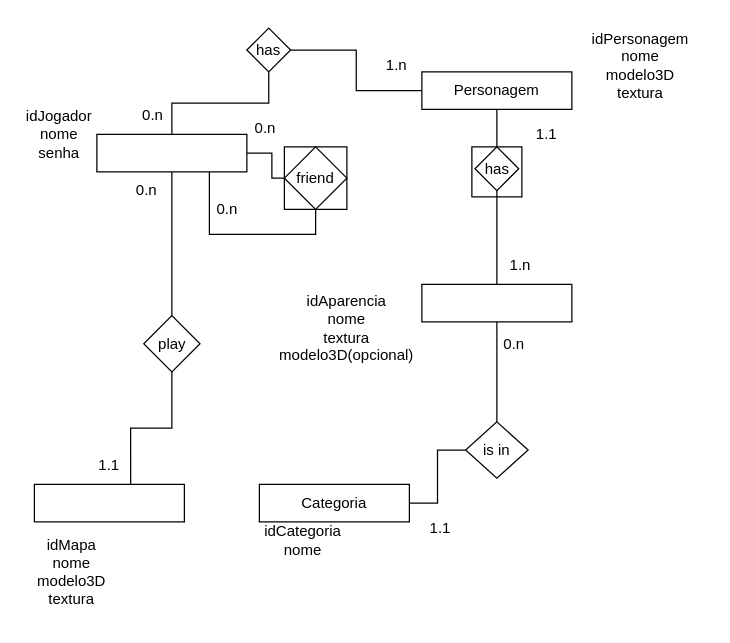
This 730x643 diagram has some shape labels left out. Each missing label, with the centre of its shape:
"Aparência" belongs at point 496,302.
"Jogador" belongs at point 171,152.
"Mapa" belongs at point 108,502.
